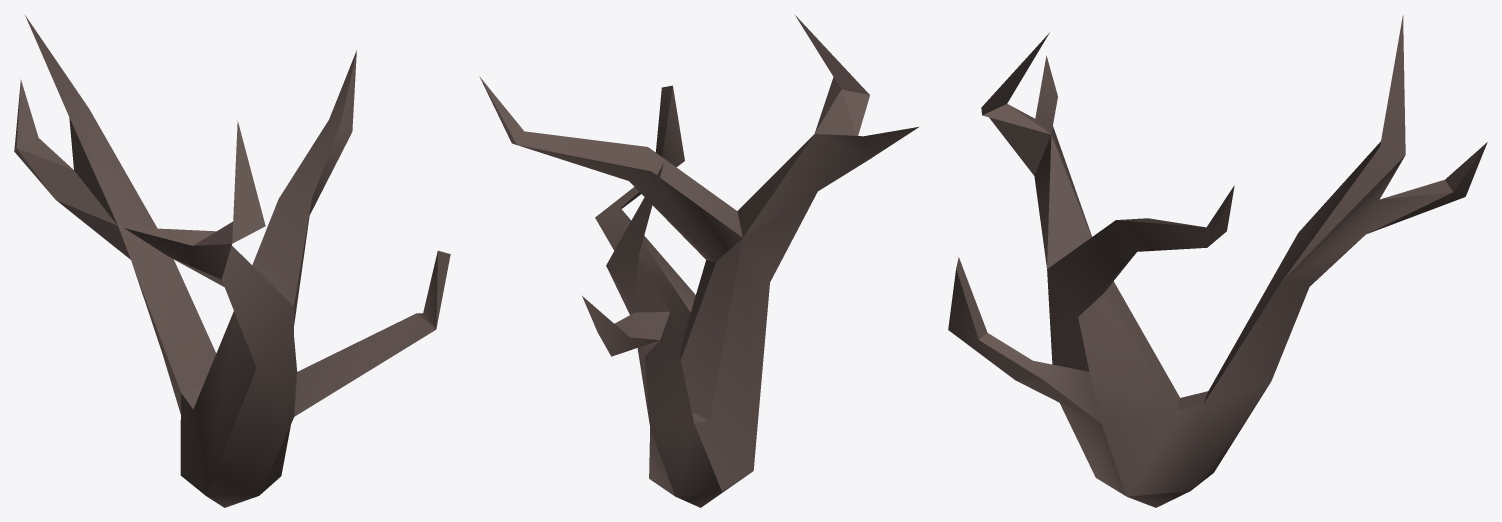
The picture shows the model from 3 angles, left to right: view 1: azimuth 30°, elevation 25°; view 2: azimuth 150°, elevation 25°; view 3: azimuth 270°, elevation 25°; orthographic projection. The views are drawn at different scales.
Visible parts, largest first — view 1: dead_bush; view 2: dead_bush; view 3: dead_bush.
Boxes of the visible parts, <box> form: dead_bush: <box>14,15,450,507</box>; dead_bush: <box>479,15,919,507</box>; dead_bush: <box>948,15,1487,507</box>.
Size of the model in its own units: 1.29 by 1.66 by 1.78.
